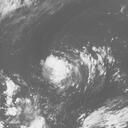cyclone: (40, 45, 114, 94)
